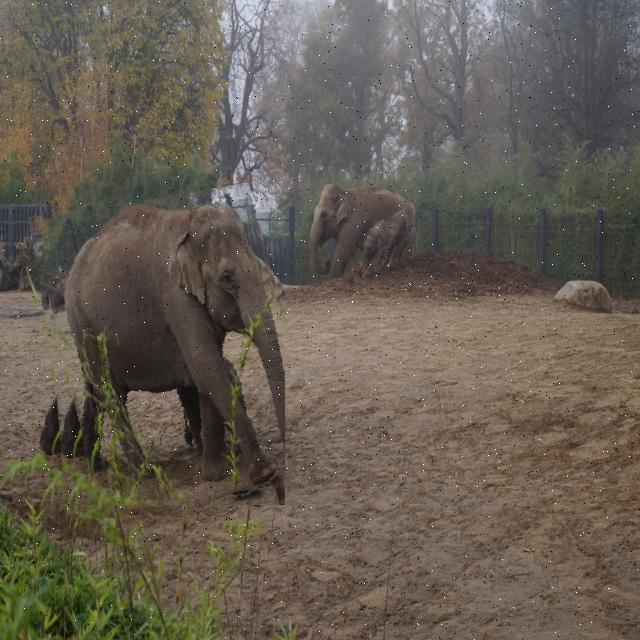elephant: (40, 190, 285, 505), (310, 173, 426, 298), (350, 194, 414, 296)
